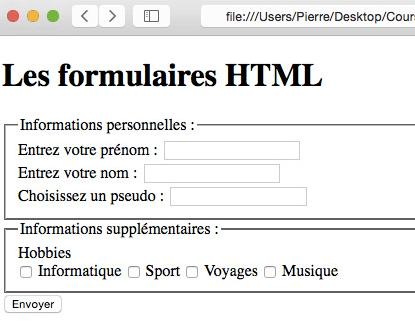button: (5, 294, 63, 314), (130, 3, 174, 29)
checkbox: (264, 264, 278, 279), (19, 265, 33, 278), (128, 265, 142, 278), (187, 264, 199, 279)
checkbox_with_label: (17, 264, 120, 279), (263, 262, 337, 281), (184, 263, 258, 280), (126, 264, 180, 280)
field: (160, 139, 302, 161), (142, 162, 281, 184), (168, 186, 309, 207)
field_with_label: (18, 137, 304, 163), (17, 184, 310, 208), (18, 161, 284, 185)
